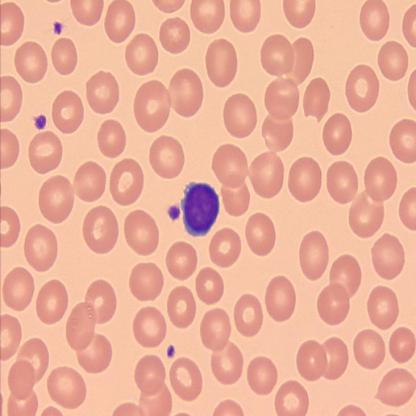Lymphocyte: (180, 180, 220, 237)
